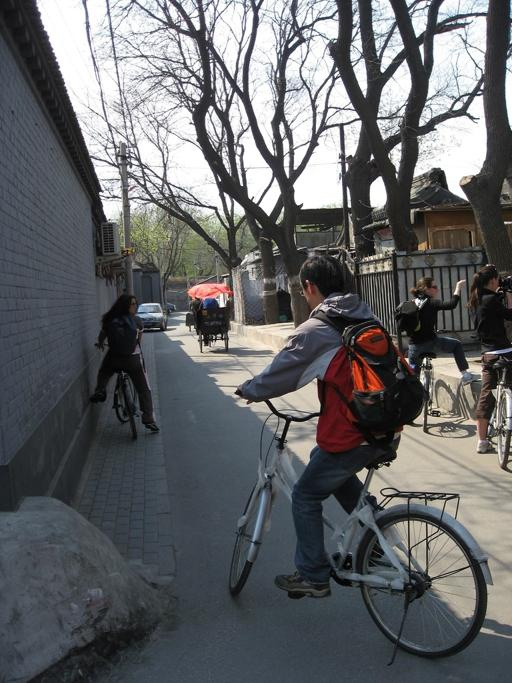non-vehicle: (225, 385, 492, 670), (469, 330, 511, 468), (94, 341, 145, 440), (403, 327, 442, 432)
